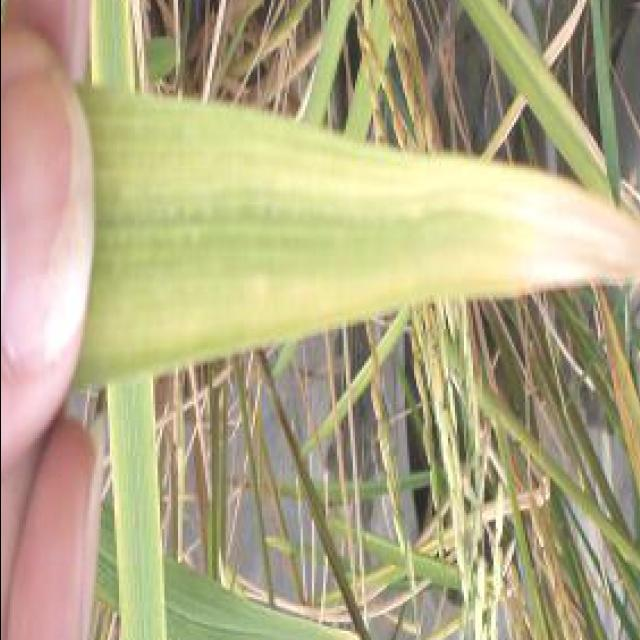Bacterial_Leaf_Blight: (88, 143, 522, 320)
